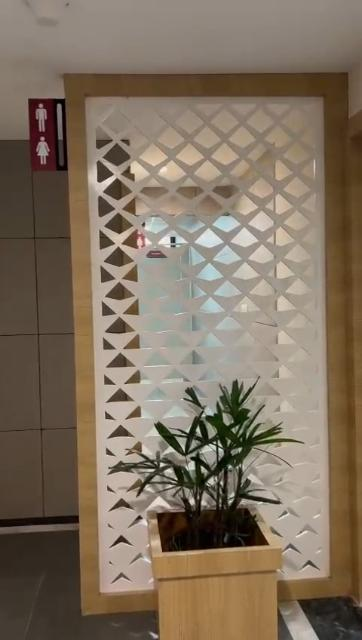floor: (2, 522, 80, 640), (276, 602, 362, 640)
object: (142, 354, 278, 640)
